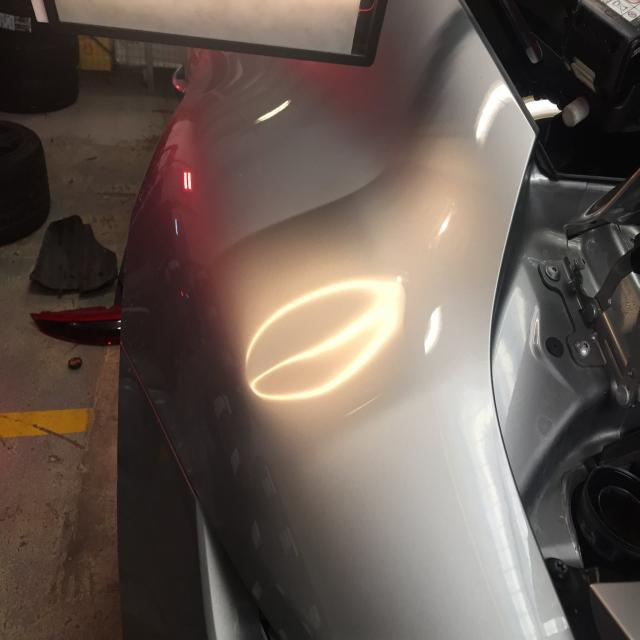dent: (244, 271, 415, 408), (203, 159, 395, 271)
misalignment: (462, 0, 640, 640)
